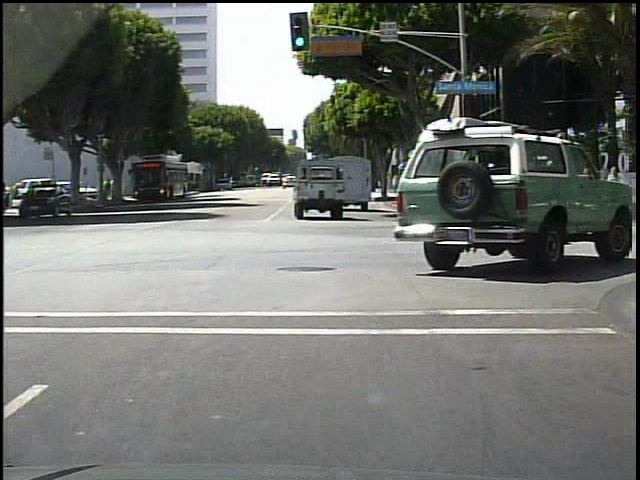person: (543, 158, 565, 227), (582, 165, 602, 224), (478, 167, 496, 218), (520, 157, 536, 214), (508, 163, 524, 214), (512, 166, 527, 217), (470, 165, 481, 216), (114, 175, 123, 203), (103, 176, 112, 200), (578, 170, 579, 222)
